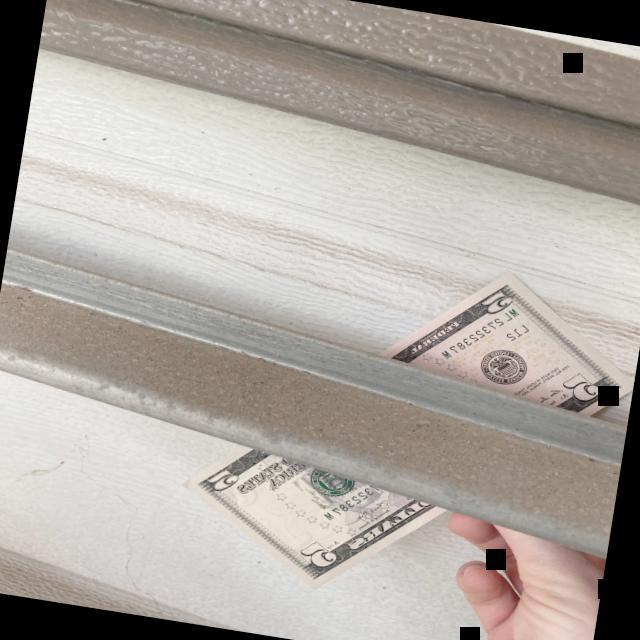five: (181, 270, 633, 592)
